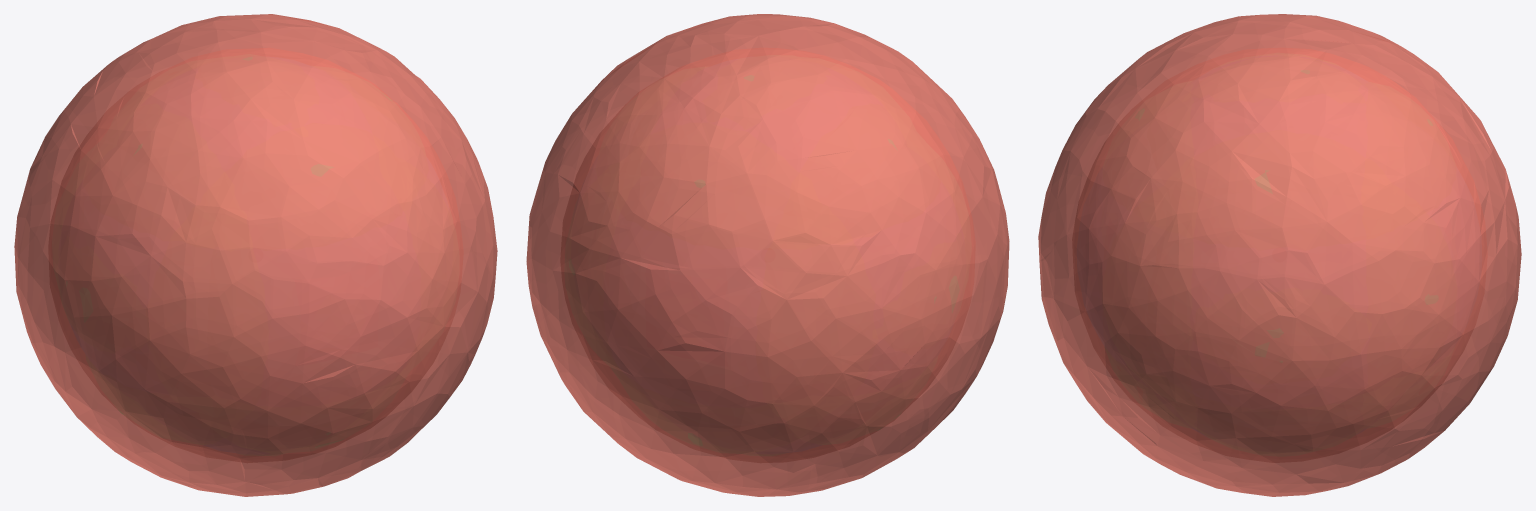
The model's file is orbital.glb.
The picture shows the model from 3 angles, left to right: view 1: azimuth 30°, elevation 25°; view 2: azimuth 150°, elevation 25°; view 3: azimuth 270°, elevation 25°; orthographic projection.
Visible parts, largest first — view 1: Sg_n7_s_ml0_node, Sg_n6_s_ml0_node; view 2: Sg_n7_s_ml0_node, Sg_n6_s_ml0_node; view 3: Sg_n7_s_ml0_node, Sg_n6_s_ml0_node.
Boxes of the visible parts, <box> form: Sg_n7_s_ml0_node: <box>14,14,497,496</box>; Sg_n6_s_ml0_node: <box>48,48,463,462</box>; Sg_n7_s_ml0_node: <box>526,14,1009,496</box>; Sg_n6_s_ml0_node: <box>560,48,975,462</box>; Sg_n7_s_ml0_node: <box>1038,14,1521,496</box>; Sg_n6_s_ml0_node: <box>1072,48,1487,462</box>.
Size of the model in its own units: 3.55 by 3.56 by 3.55.
